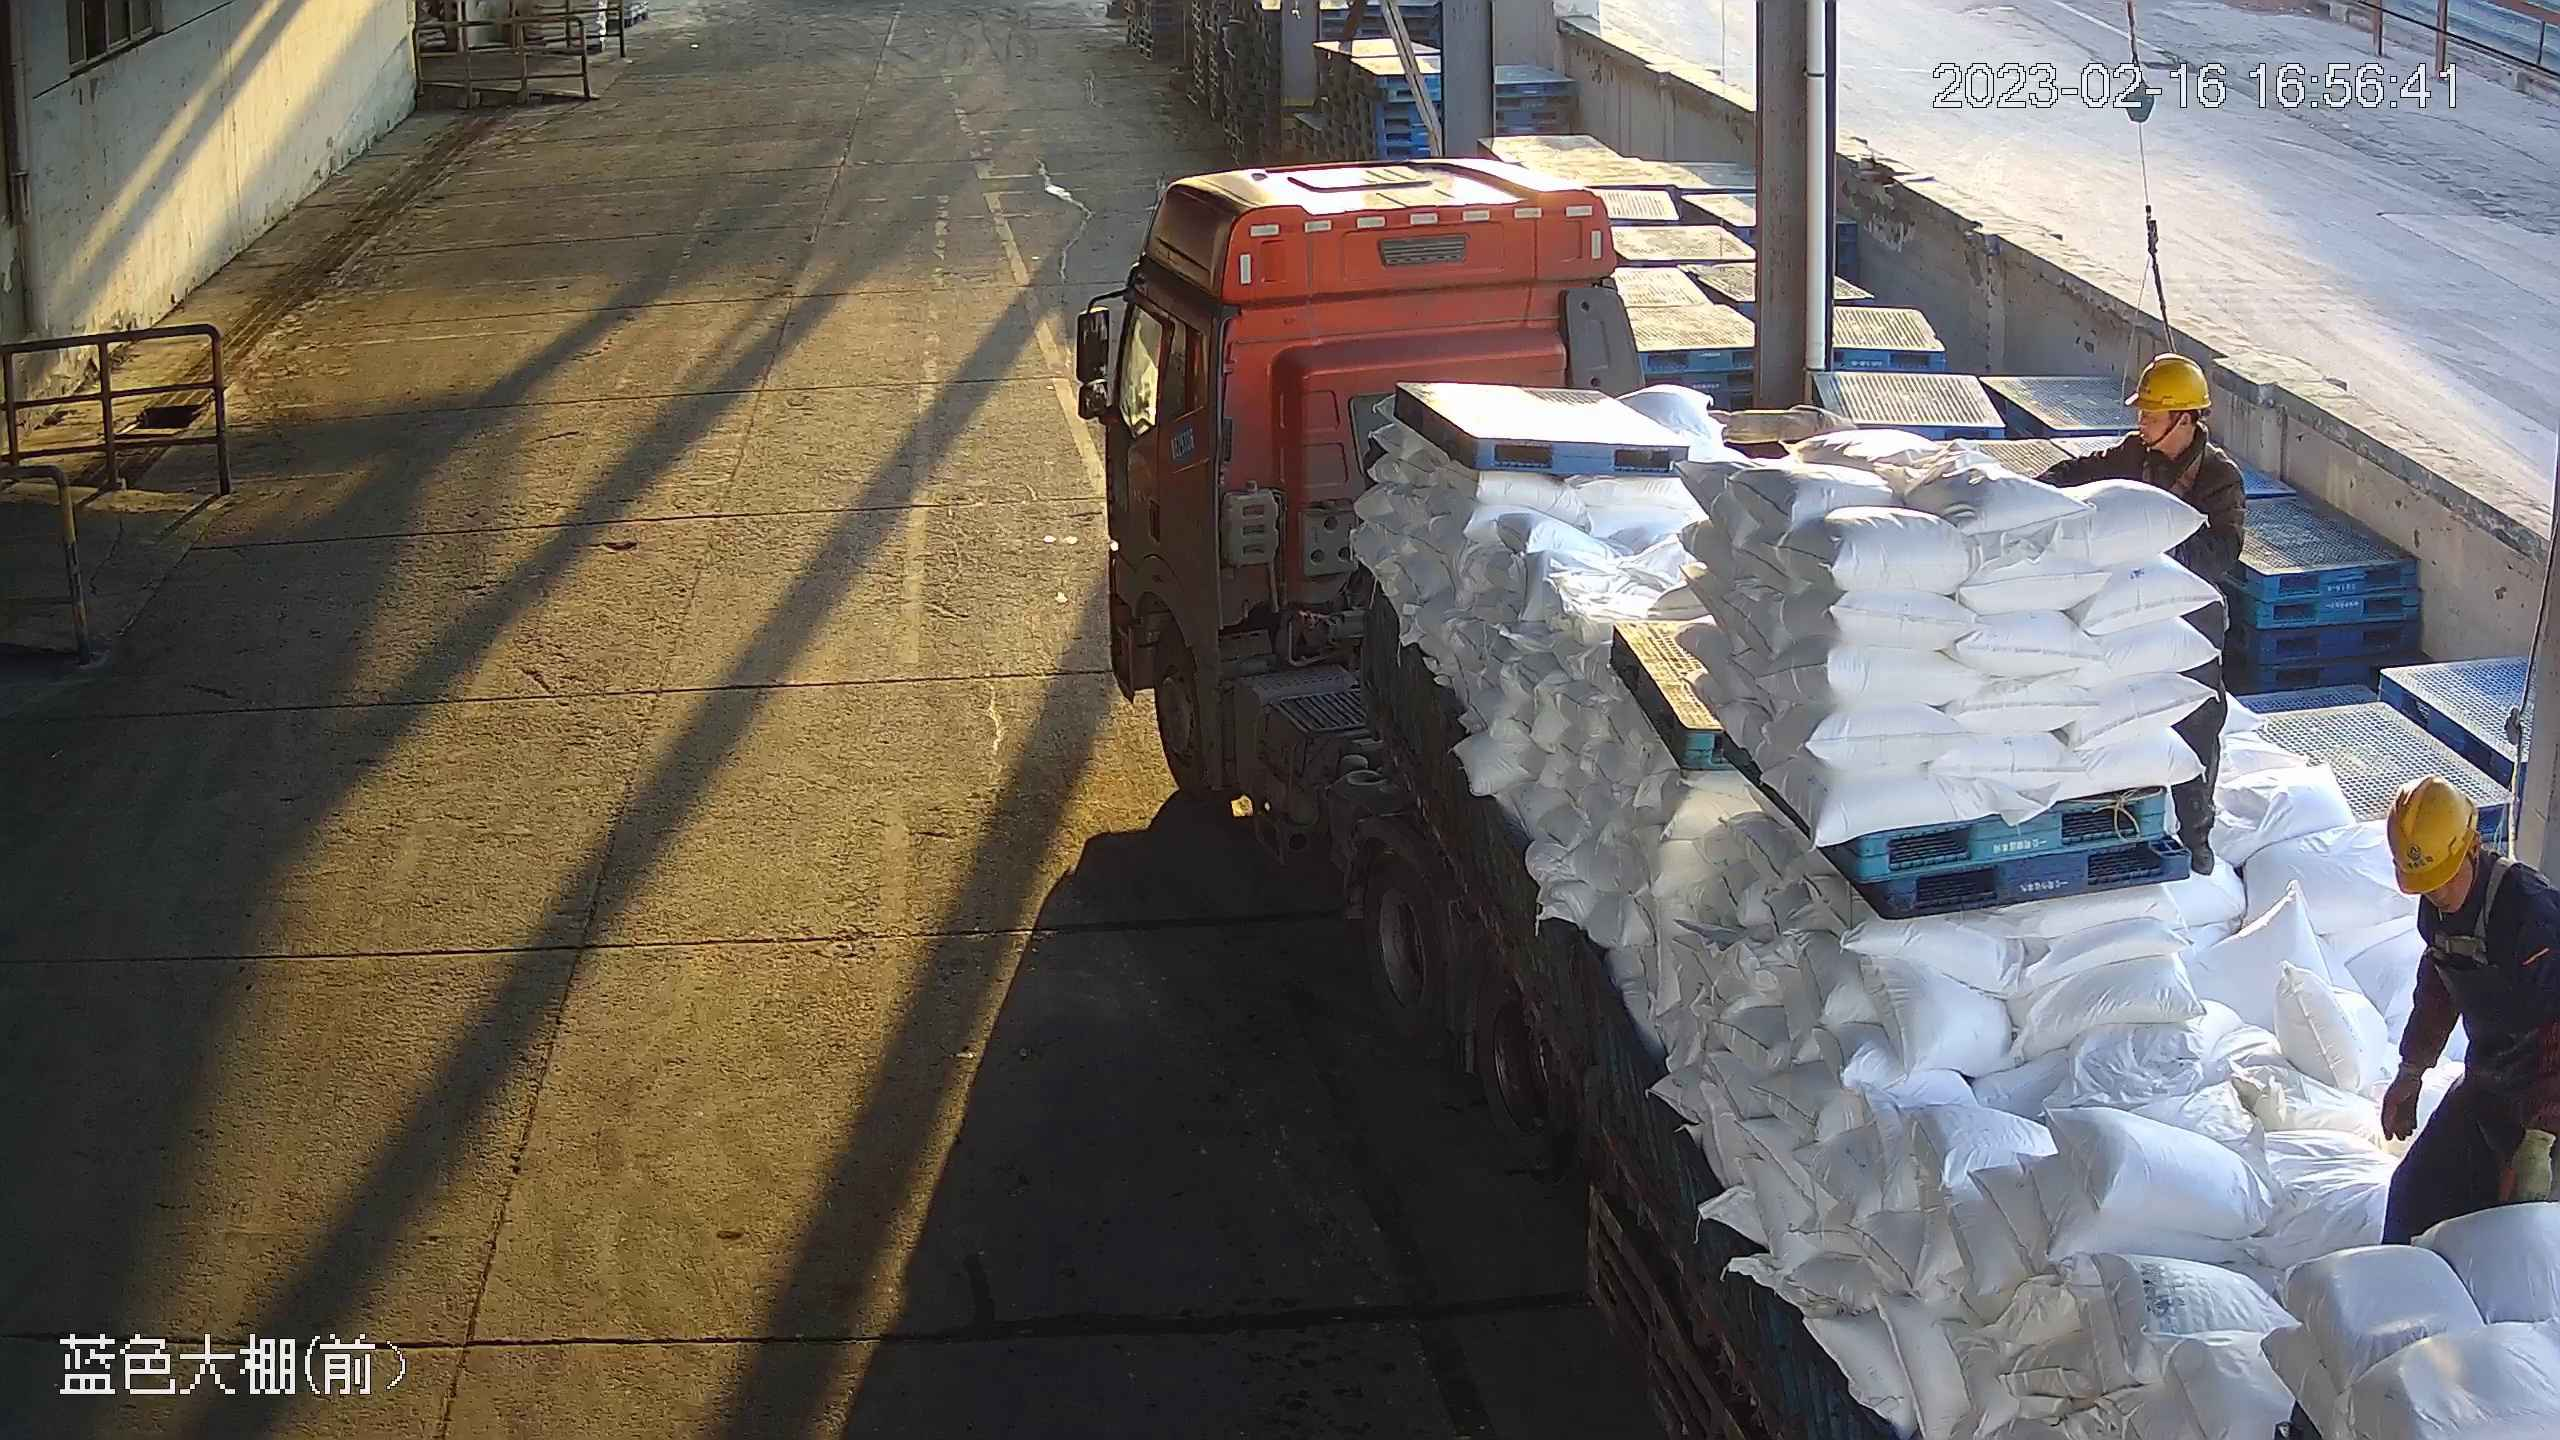belt: (2423, 852, 2516, 958)
head: (2372, 772, 2560, 946), (2073, 354, 2248, 490)
helmet: (2386, 767, 2490, 897), (2133, 349, 2214, 416)
people: (2364, 771, 2560, 1253)
truck: (1073, 147, 2560, 1440)
